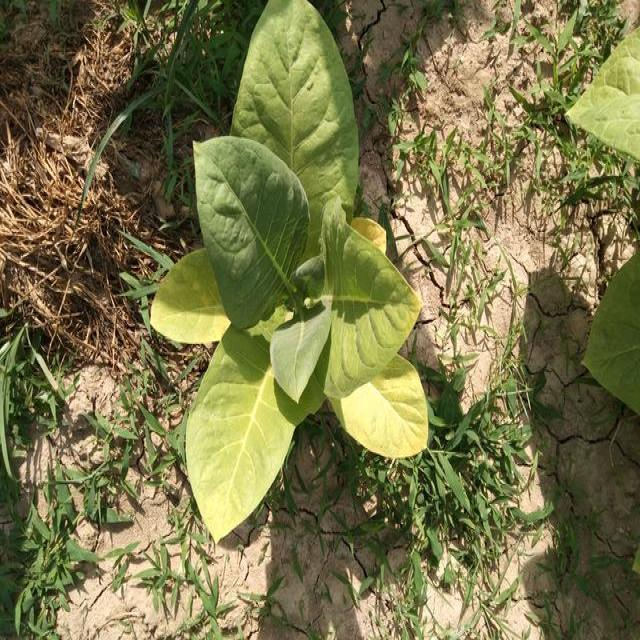crop: (147, 2, 436, 544)
